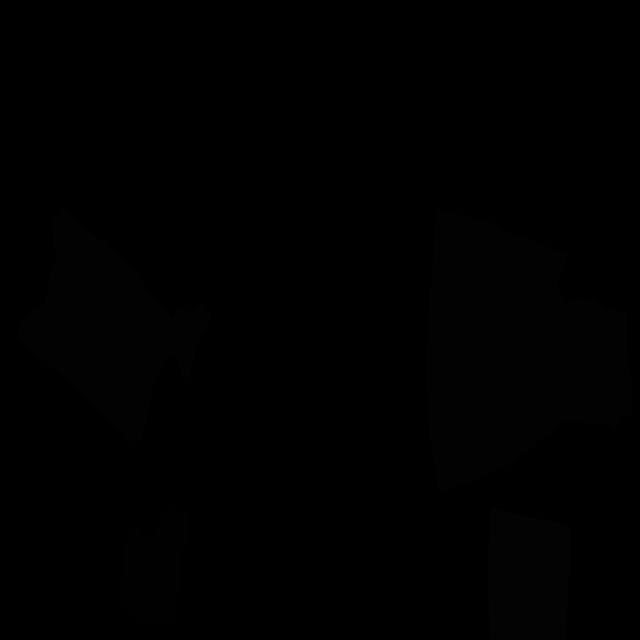cardboard: (426, 207, 634, 494), (18, 206, 175, 443), (154, 303, 212, 388)
metal: (488, 508, 569, 640)
rigid_plastic: (120, 507, 190, 627)
